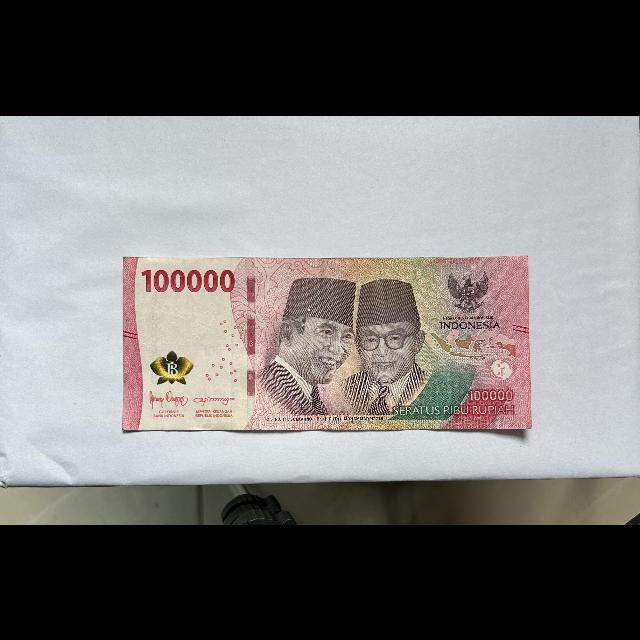Asli-100k: (121, 252, 534, 434)
Tinta-Asli-100k: (149, 349, 195, 385)
